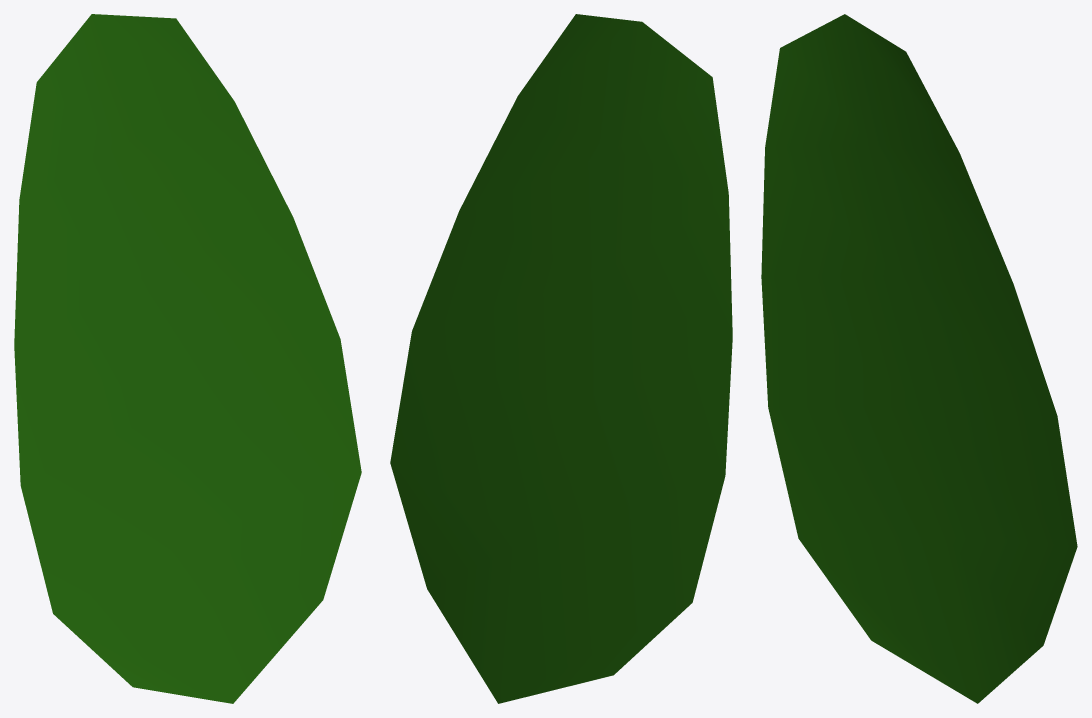
The model's file is lovebird_feather_flight_tertiary_048.001.obj.
3 renders of one model, left to right at view 1: azimuth 30°, elevation 25°; view 2: azimuth 150°, elevation 25°; view 3: azimuth 330°, elevation 25°, orthographic. The views are drawn at different scales.
Parts seen in each view (by area): view 1: feather_flight_tertiary_048.001; view 2: feather_flight_tertiary_048.001; view 3: feather_flight_tertiary_048.001.
Part boxes in pixels (left/top/right/bottom): feather_flight_tertiary_048.001: left=14, top=14, right=361, bottom=703; feather_flight_tertiary_048.001: left=390, top=14, right=732, bottom=703; feather_flight_tertiary_048.001: left=761, top=14, right=1077, bottom=703.
Size of the model in its own units: 0.00381 by 0.00761 by 0.000209.
